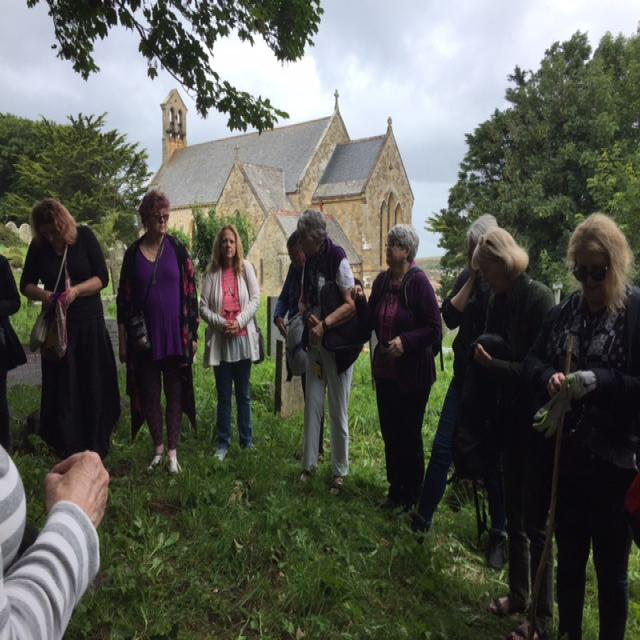body: (519, 205, 639, 639), (405, 211, 511, 573), (465, 224, 556, 640), (348, 221, 445, 527), (18, 195, 124, 461), (114, 186, 202, 474), (289, 205, 374, 499), (0, 429, 113, 639), (194, 223, 263, 467), (271, 227, 331, 465), (0, 244, 28, 456)
